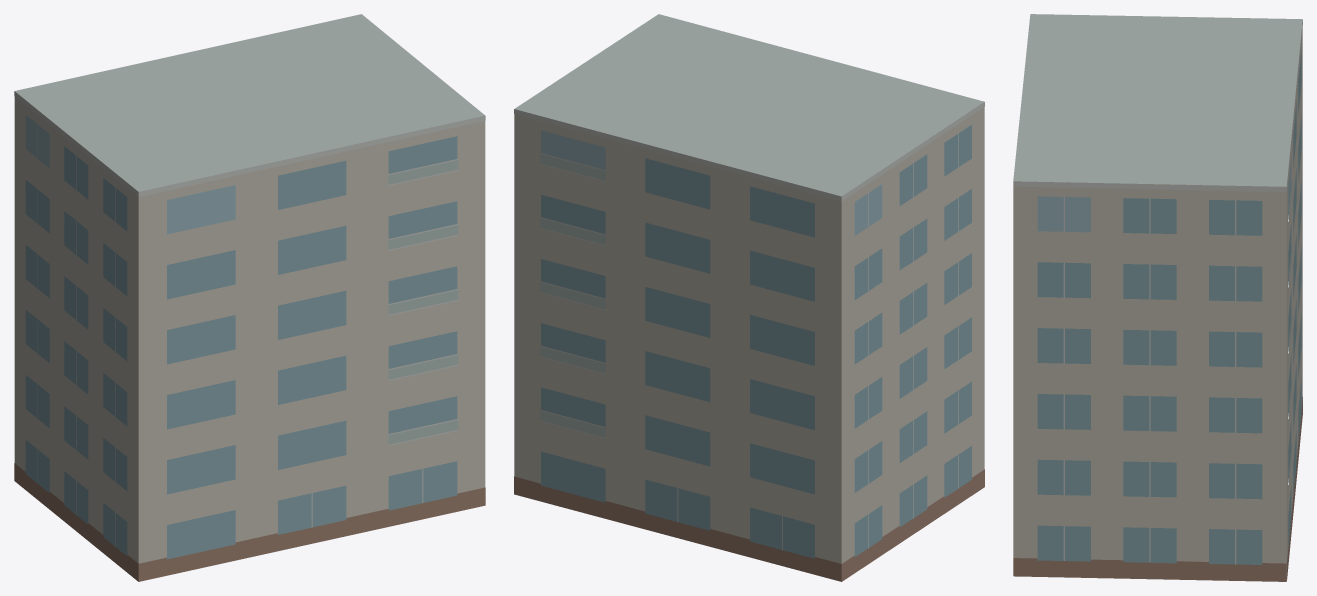
The model's file is survey-upis-32699396.glb.
3 renders of one model, left to right at view 1: azimuth 30°, elevation 25°; view 2: azimuth 150°, elevation 25°; view 3: azimuth 270°, elevation 25°, orthographic. The views are drawn at different scales.
Parts seen in each view (by area): view 1: survey-upis-32699396.tmp; view 2: survey-upis-32699396.tmp; view 3: survey-upis-32699396.tmp.
Boxes of the visible parts, <box> form: survey-upis-32699396.tmp: <box>14,14,485,581</box>; survey-upis-32699396.tmp: <box>514,14,984,581</box>; survey-upis-32699396.tmp: <box>1013,14,1302,581</box>.
Bounding box in the file's own units: 17.18 × 18.3 × 12.17.
